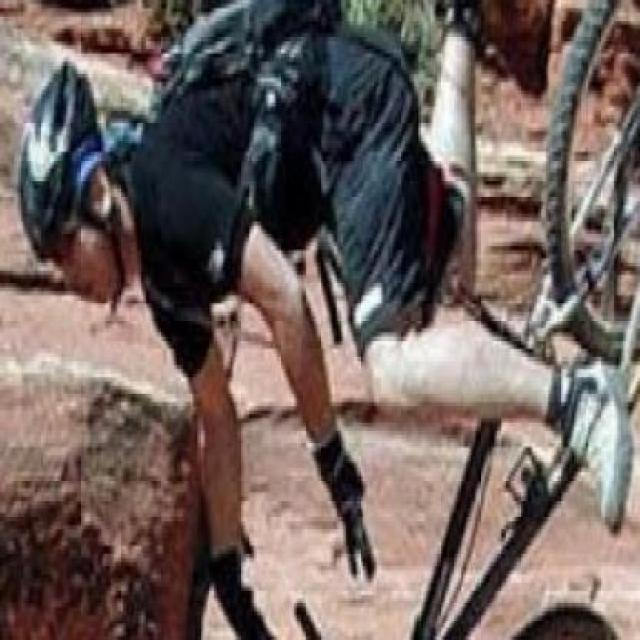fall: (15, 6, 630, 634)
